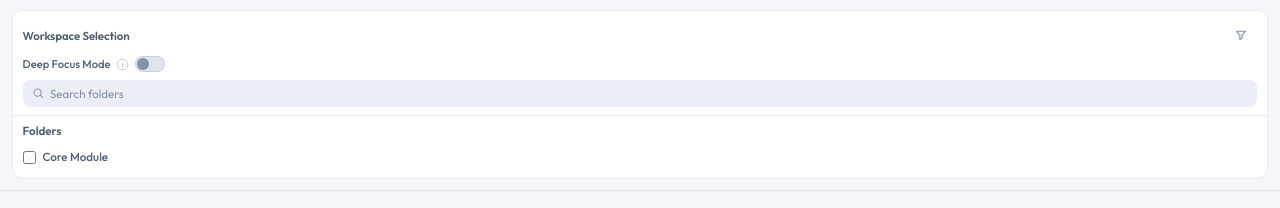
StandardFocusSelector › renders monolith search empty copy
The width and height of the screenshot is (1280, 208).
Step 1. Type "missing" into the field labelled "Search folders" → coordinates (649, 94), box left=50, top=86, right=1248, bottom=102
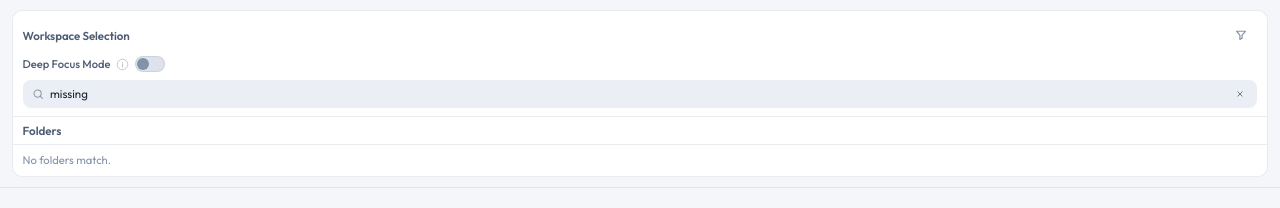
Now the text "No folders match." is shown, box left=13, top=144, right=1267, bottom=176
